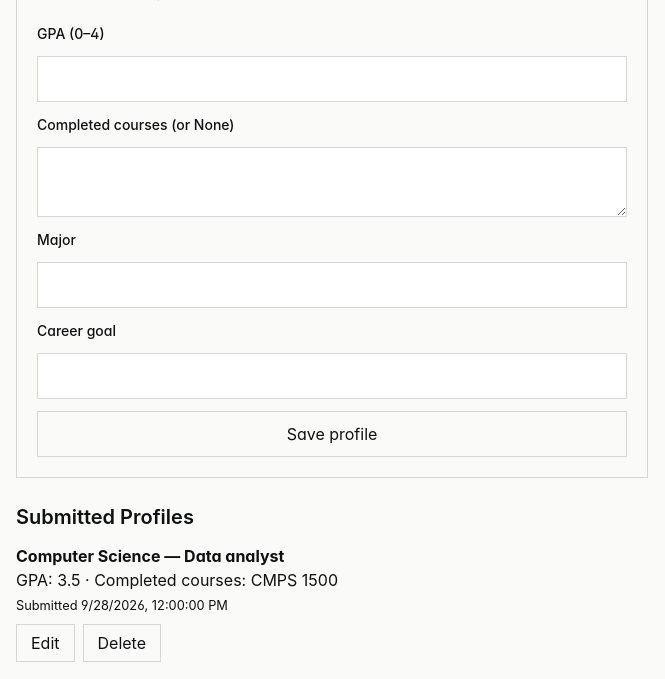
SubmissionsPage — the submitted list › editing sends the changed values to PUT and updates the row in place
(page scrolled)
Expected: the text "Computer Science — Data analyst" is shown, [16,546,284,566]
Click the button "Edit".
click(45, 643)  # box [16,624,74,662]
(page scrolled)
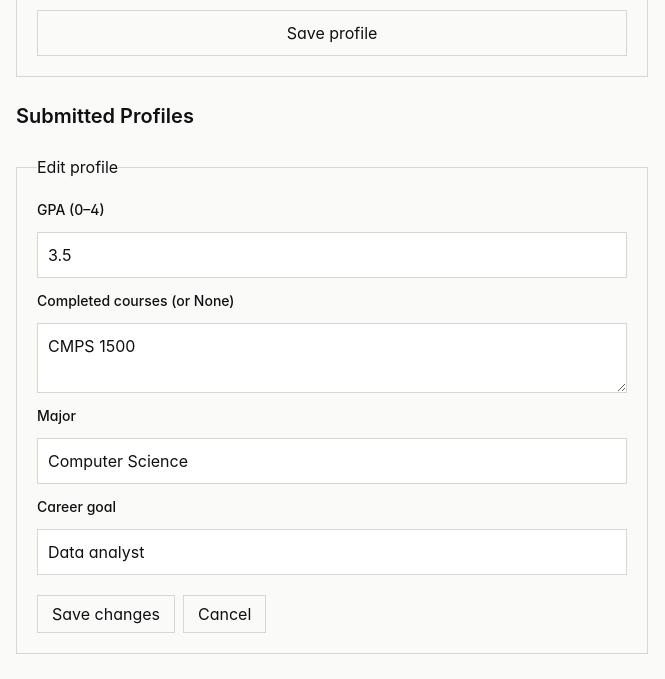
Replace the text in the 2nd field labelled "Career goal" with "Data engineer" at (332, 552), box [37,529,627,575]
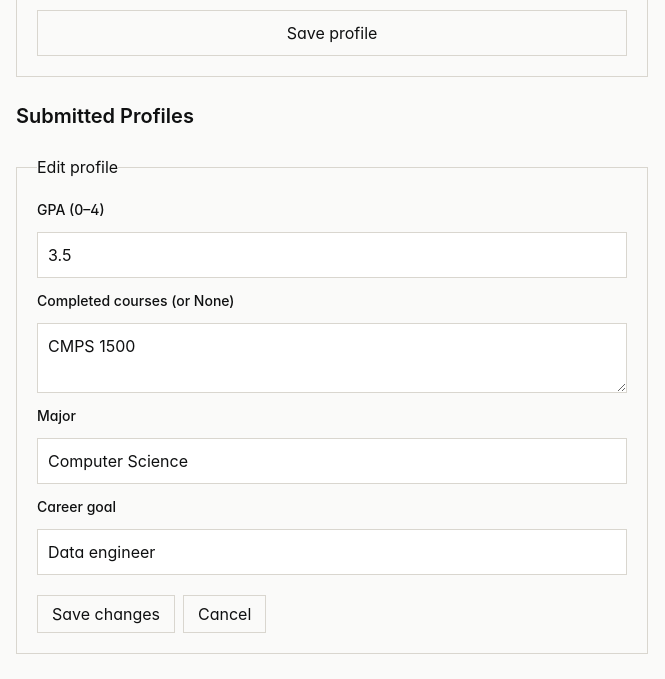
Click the button "Save changes".
click(106, 614)  # box [37,595,175,633]
(page scrolled)
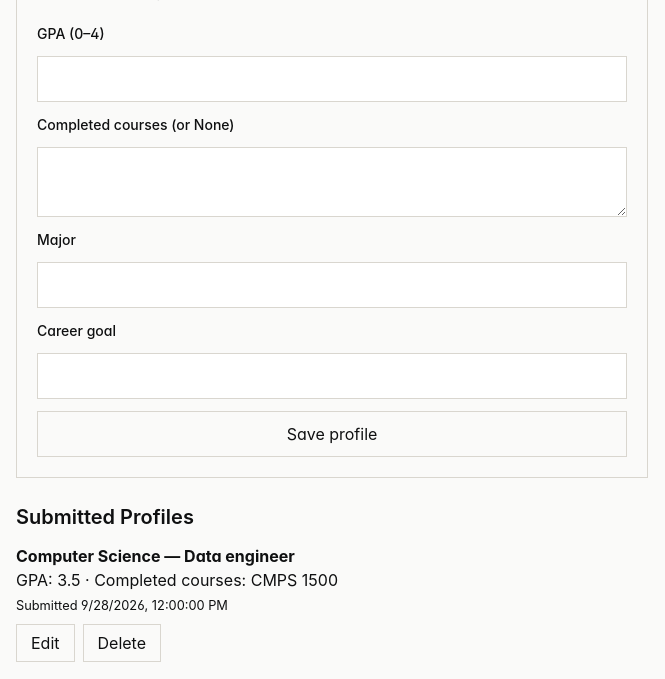
Expected: the text "Computer Science — Data engineer" is shown, [16,546,295,566]
